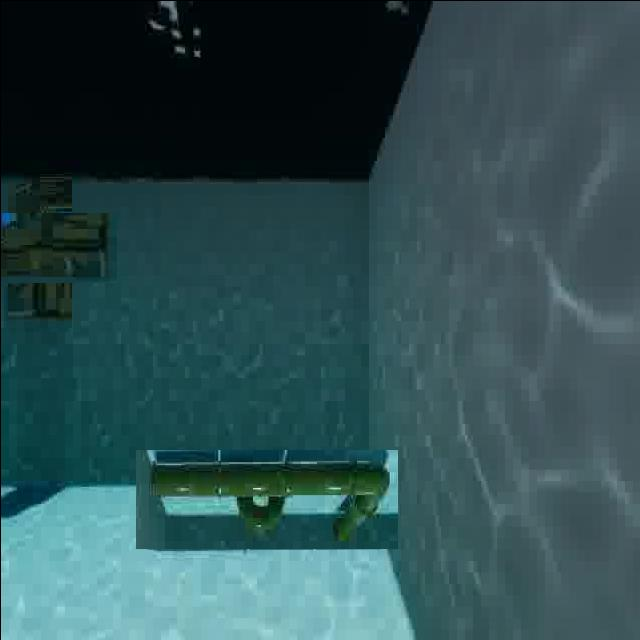Control Panel: (0, 188, 93, 304)
Pipe: (134, 448, 397, 548)
